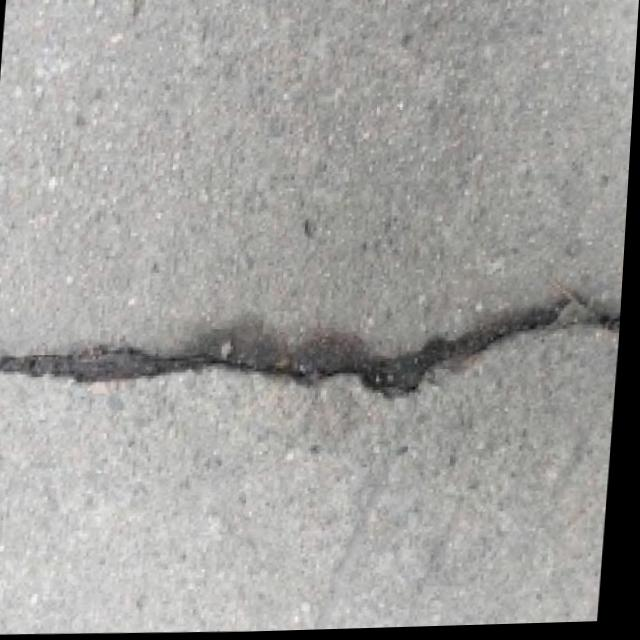Crack: (0, 245, 628, 485)
